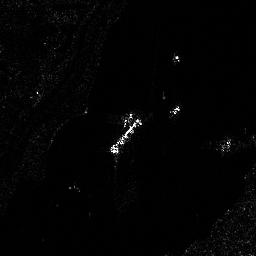ship: (110, 116, 142, 154)
